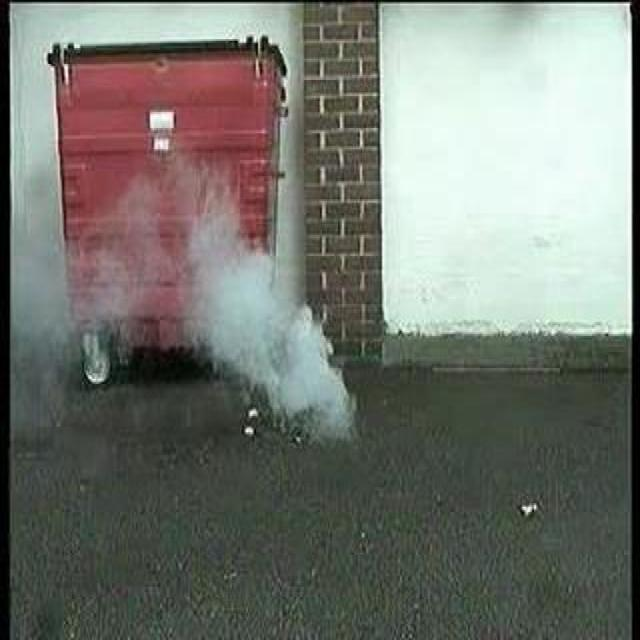Smoke: (11, 151, 358, 452)
